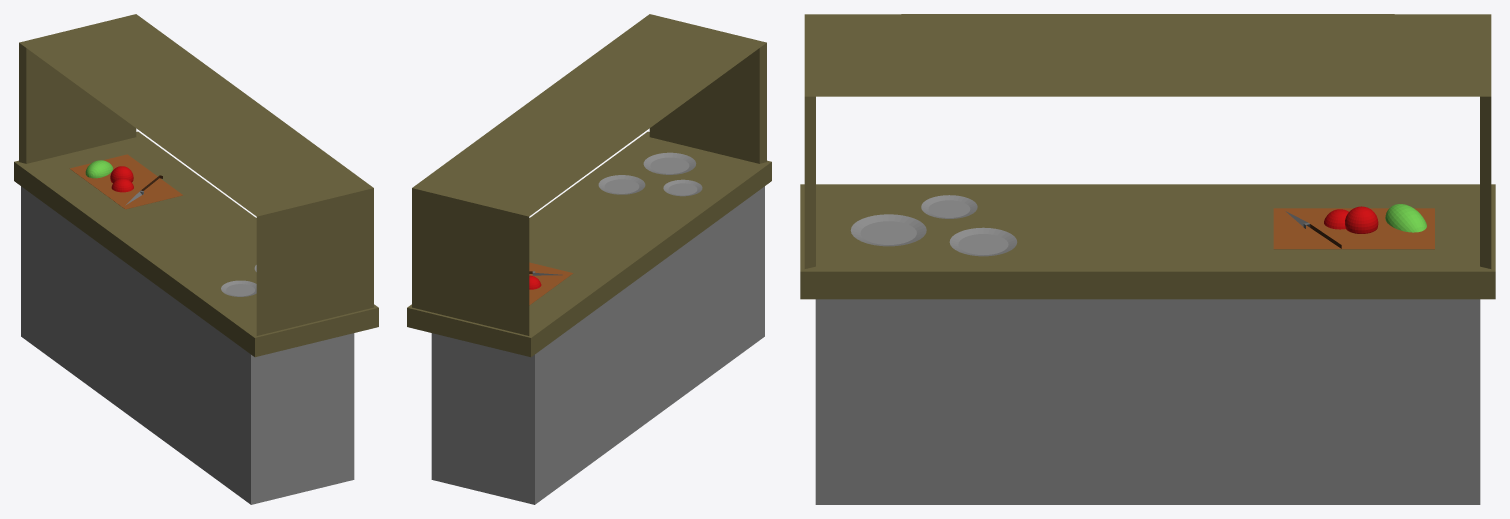
File: kitchenCounter.obj
3 renders of one model, left to right at view 1: azimuth 30°, elevation 25°; view 2: azimuth 150°, elevation 25°; view 3: azimuth 270°, elevation 25°, orthographic. The views are drawn at different scales.
Visible parts, largest first — view 1: KitchenCounter_Cube.016; view 2: KitchenCounter_Cube.016; view 3: KitchenCounter_Cube.016.
Part boxes in pixels (box(x1,y1,x2,y2)): KitchenCounter_Cube.016: box(14, 14, 378, 504); KitchenCounter_Cube.016: box(407, 14, 771, 504); KitchenCounter_Cube.016: box(800, 14, 1495, 504).
Bounding box in the file's own units: 0.3111 × 0.6967 × 1.05.
